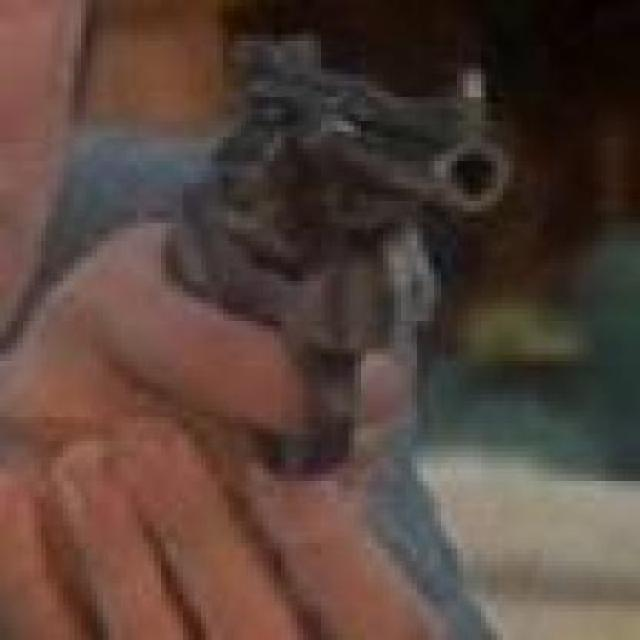rifle: (173, 9, 570, 496)
